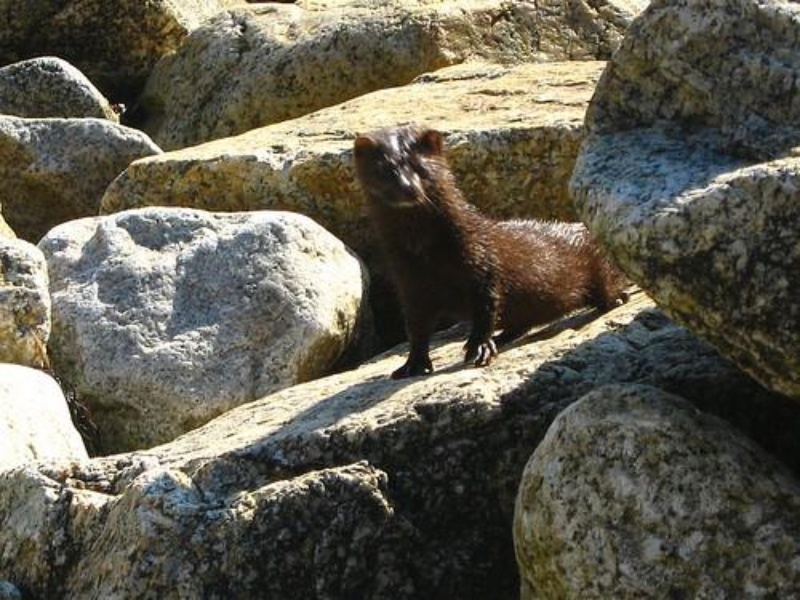minkish: (353, 123, 633, 380)
